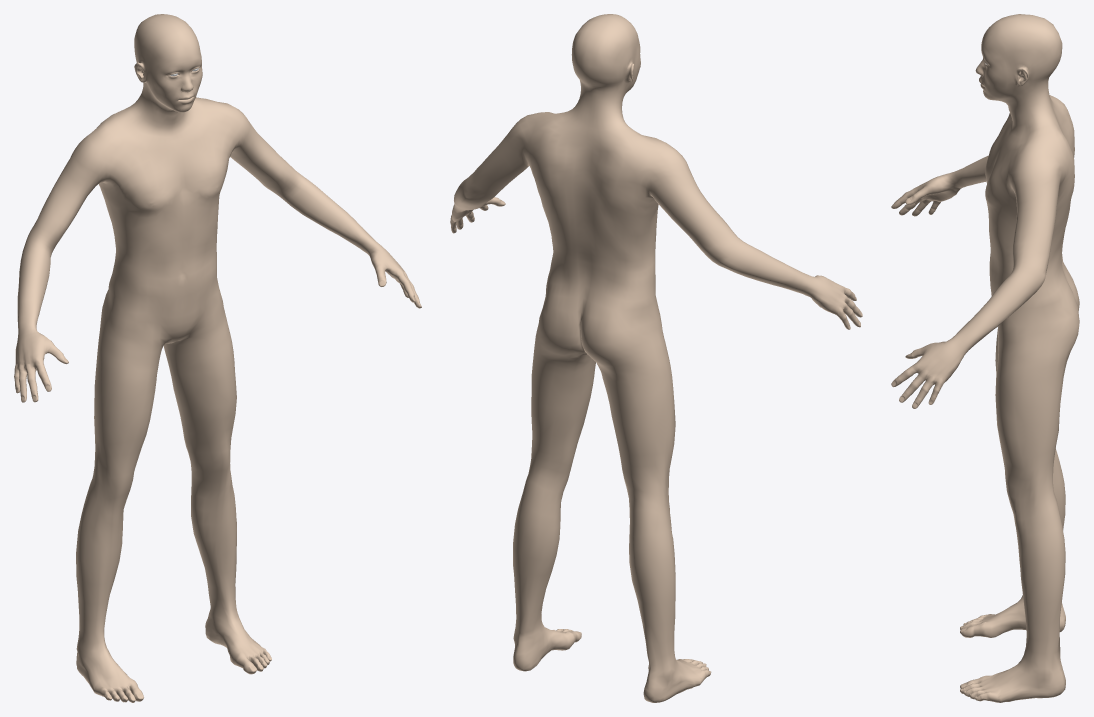
File: male_model.glb
The picture shows the model from 3 angles, left to right: view 1: azimuth 30°, elevation 25°; view 2: azimuth 150°, elevation 25°; view 3: azimuth 270°, elevation 25°; orthographic projection.
Parts seen in each view (by area): view 1: human_model_maleMesh; view 2: human_model_maleMesh; view 3: human_model_maleMesh.
Part boxes in pixels (x1,y1,x2,y2): human_model_maleMesh: [14, 14, 421, 702]; human_model_maleMesh: [450, 14, 862, 702]; human_model_maleMesh: [891, 14, 1079, 702].
Size of the model in its own units: 13.31 by 20.7 by 5.47.
